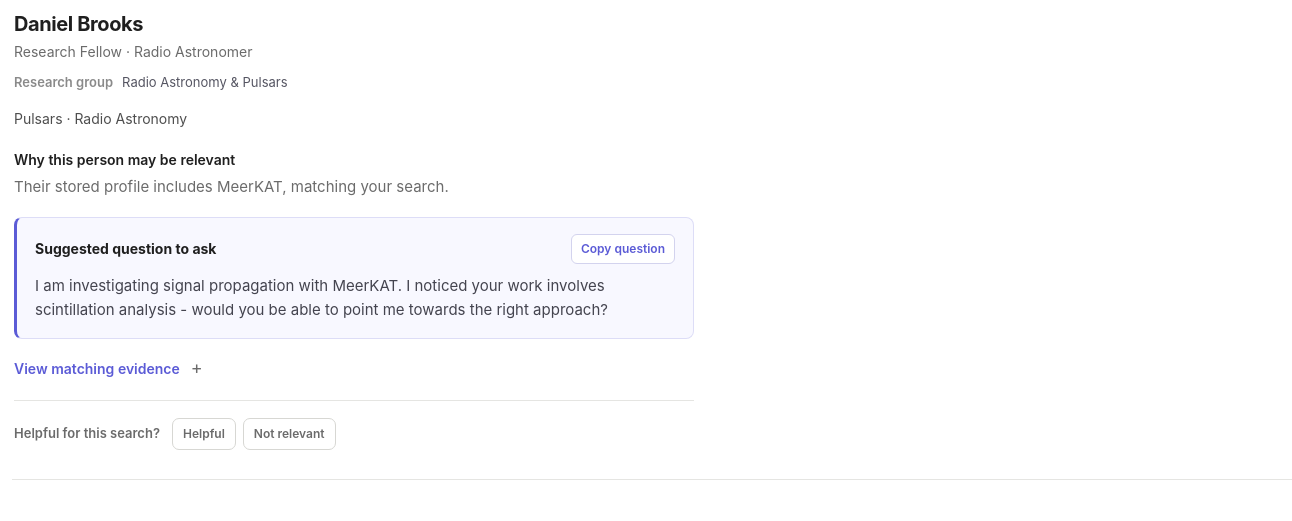
Test case: SearchResult evidence disclosure › keeps the text available when clipboard writing fails
This screenshot has width=1292, height=521.
What coordinates should you click on to do the following:
click the button with aria-label "Copy suggested question"
I would click on:
 (623, 248)
Its box is [571, 234, 675, 264].
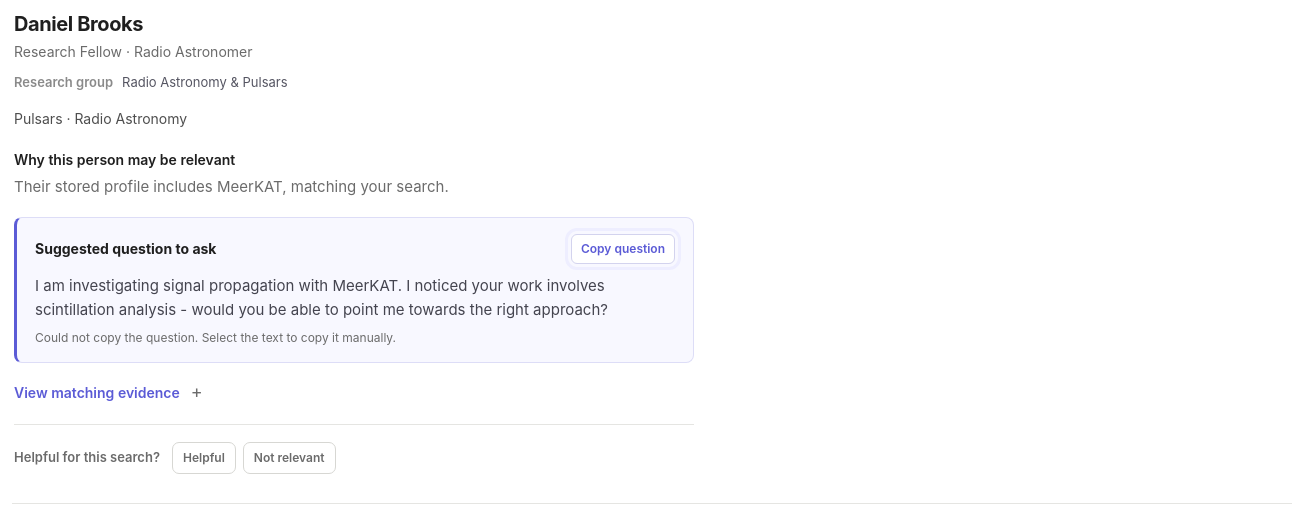
Check: the text "I am investigating signal propagation with MeerKAT. I noticed your work involves scintillation analysis - would you be a" is shown, box [35, 276, 608, 318]
Check: the text "Could not copy the question. Select the text to copy it manually." is shown, box [35, 330, 396, 344]
